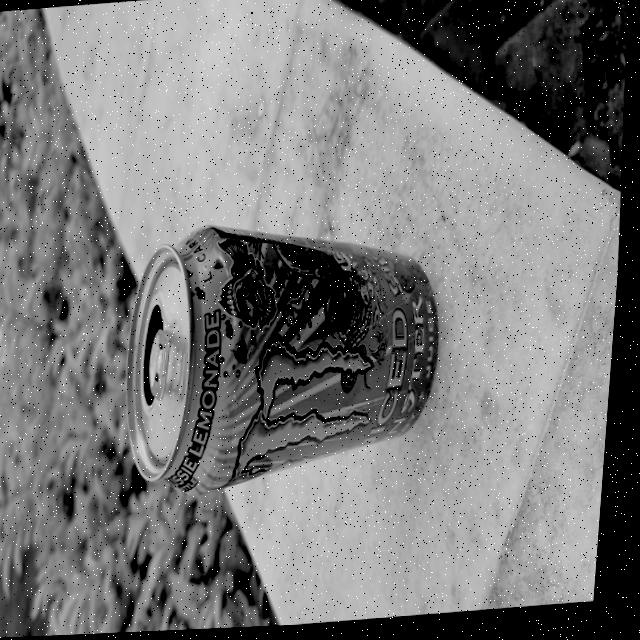Monster Aussie Lemonade: (122, 218, 453, 498)
